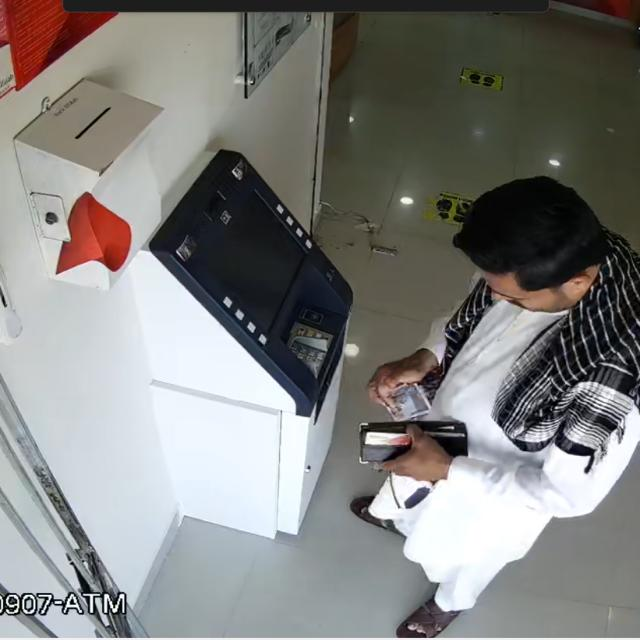note: (366, 379, 443, 437)
